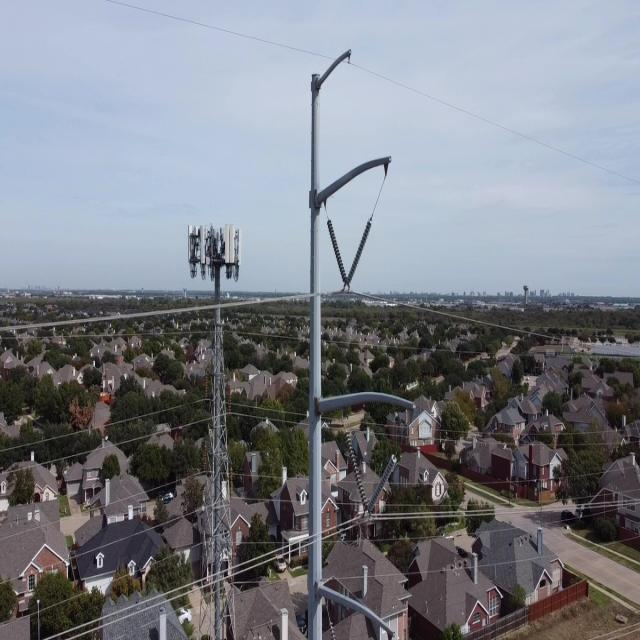杆塔: (184, 214, 248, 640)
正常绝缘子: (342, 216, 375, 294), (363, 452, 400, 521), (343, 428, 372, 516), (325, 213, 350, 287)
